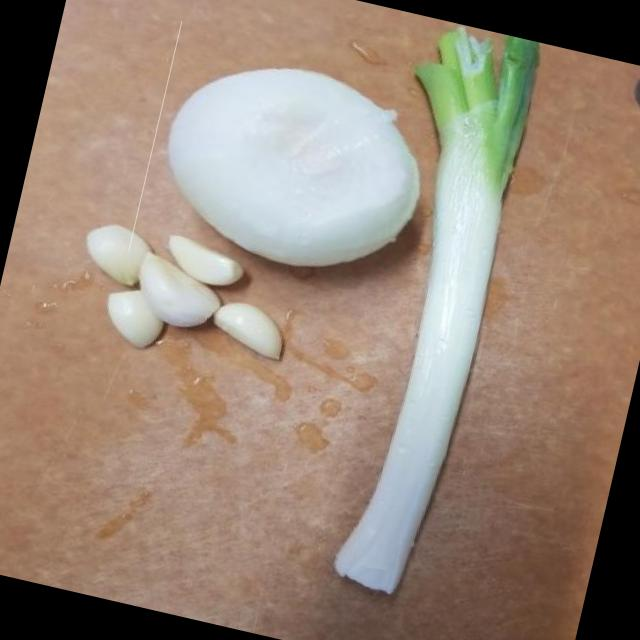Onion: (128, 21, 458, 315)
